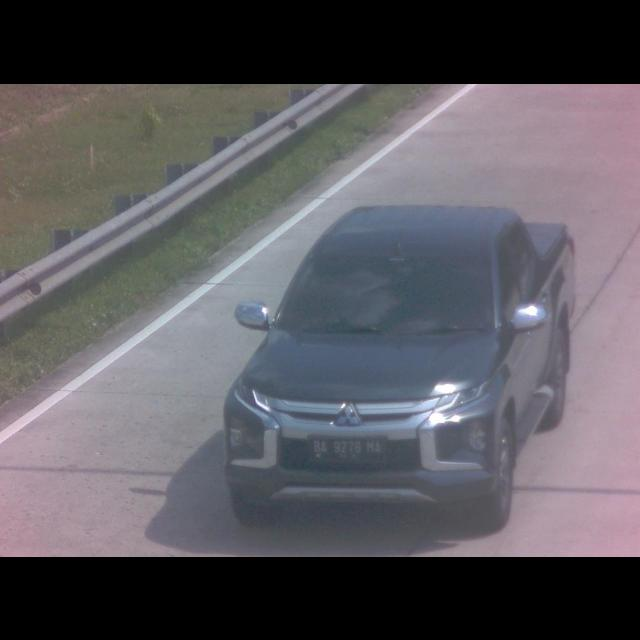plate: (309, 434, 389, 462)
